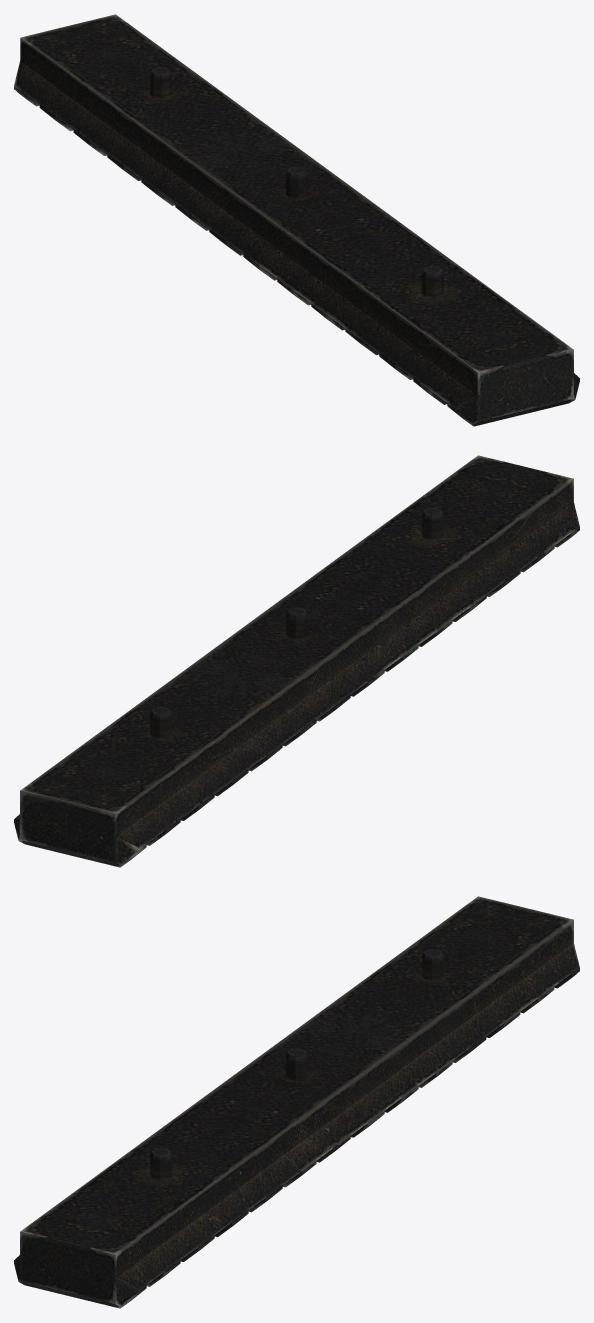
3 renders of one model, top to bottom at view 1: azimuth 30°, elevation 25°; view 2: azimuth 150°, elevation 25°; view 3: azimuth 330°, elevation 25°, orthographic.
Parts seen in each view (by area): view 1: TW_5b7be46e5acfc400170e2dcf_PZ_Import; view 2: TW_5b7be46e5acfc400170e2dcf_PZ_Import; view 3: TW_5b7be46e5acfc400170e2dcf_PZ_Import.
Part boxes in pixels (box(x1,y1,x2,y2)): TW_5b7be46e5acfc400170e2dcf_PZ_Import: box(14, 14, 579, 426); TW_5b7be46e5acfc400170e2dcf_PZ_Import: box(14, 455, 579, 867); TW_5b7be46e5acfc400170e2dcf_PZ_Import: box(14, 896, 579, 1308).
Size of the model in its own units: 0.0123 by 0.0779 by 0.00753.
1 material, 1 textured.
